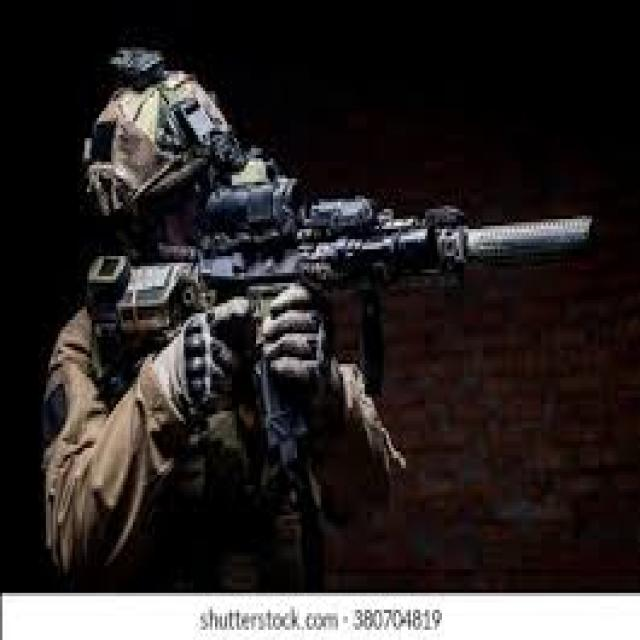soldier: (58, 40, 577, 590)
